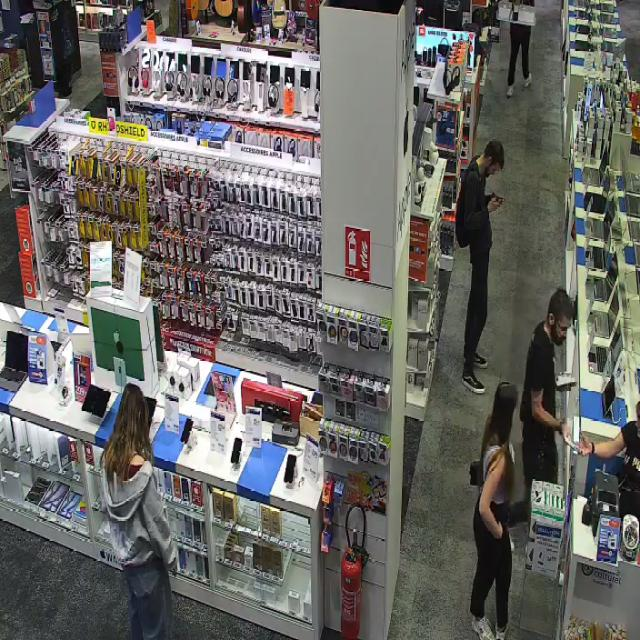article: (555, 372, 576, 386)
bags: (469, 461, 480, 486)
hands: (551, 417, 580, 451), (576, 433, 592, 455), (488, 197, 502, 213), (556, 382, 577, 392)
person: (101, 383, 176, 639), (510, 288, 572, 524), (456, 140, 504, 393), (470, 382, 517, 639), (582, 401, 639, 519)
